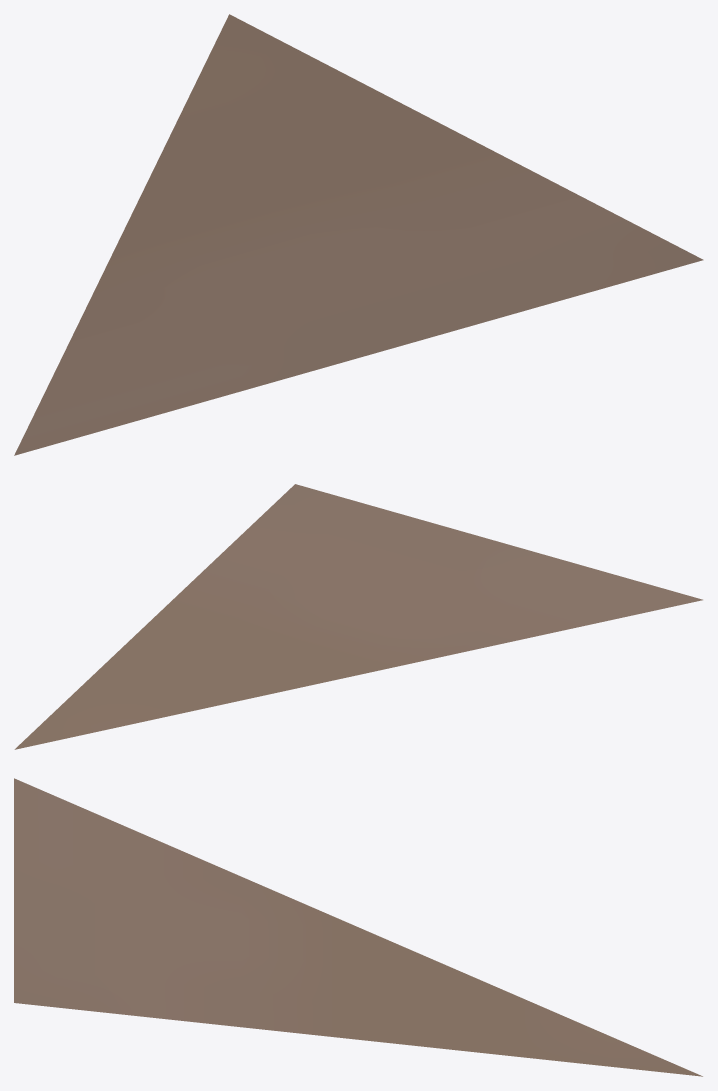
3 renders of one model, top to bottom at view 1: azimuth 30°, elevation 25°; view 2: azimuth 150°, elevation 25°; view 3: azimuth 270°, elevation 25°, orthographic. The views are drawn at different scales.
Size of the model in its own units: 0.0997 by 0.014 by 0.1189.
1 material, 1 textured.
